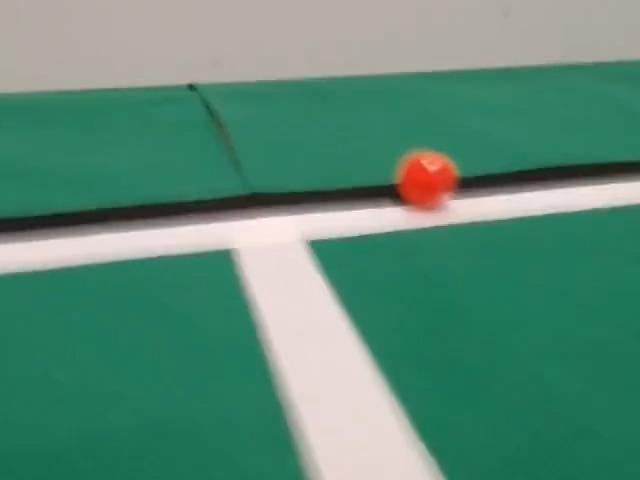Ball: (395, 150, 458, 209)
